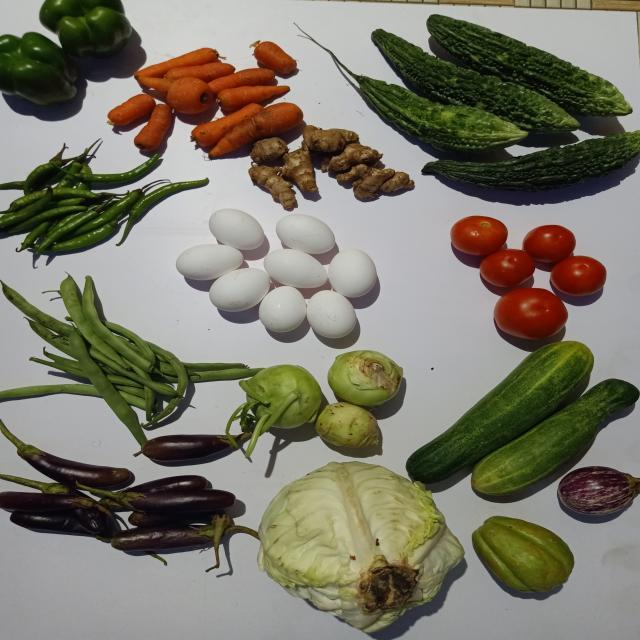Beans: (68, 330, 146, 446), (81, 276, 153, 373), (59, 275, 125, 367), (142, 343, 188, 427), (0, 384, 99, 399)
Bitter Gourd: (372, 28, 581, 132), (427, 13, 633, 116), (352, 73, 529, 153), (422, 130, 640, 191)
Brinjal: (81, 487, 234, 515), (110, 526, 212, 552), (140, 435, 230, 462), (0, 492, 96, 513)
Cabbage: (258, 462, 464, 634)
Capsicum: (0, 31, 76, 105), (38, 0, 131, 56)
Carrot: (208, 102, 303, 157), (191, 103, 263, 146), (133, 47, 219, 77), (216, 85, 290, 111), (207, 67, 275, 94), (133, 103, 171, 151), (253, 40, 296, 73)
Chayote: (473, 517, 575, 593)
Cucumber: (406, 341, 595, 484), (472, 379, 640, 496)
Egg: (209, 268, 270, 312), (263, 249, 328, 288), (175, 244, 243, 280), (328, 248, 377, 297), (275, 214, 335, 254), (306, 291, 357, 338), (208, 208, 264, 250), (258, 286, 306, 333)
Eggplant: (559, 467, 640, 516)
Ginger: (248, 165, 297, 209), (280, 141, 318, 191), (303, 125, 359, 152), (250, 137, 289, 163)
Green Chilly: (115, 177, 208, 245), (72, 188, 142, 236), (21, 143, 74, 195), (74, 153, 159, 182), (6, 205, 86, 233), (45, 220, 117, 251), (7, 190, 45, 212), (51, 187, 100, 199)
Tomato: (494, 288, 568, 340), (451, 215, 508, 255), (551, 256, 608, 296), (480, 249, 536, 287), (524, 225, 576, 262)
Turnip: (226, 365, 322, 458), (327, 351, 404, 409), (315, 403, 379, 448)
